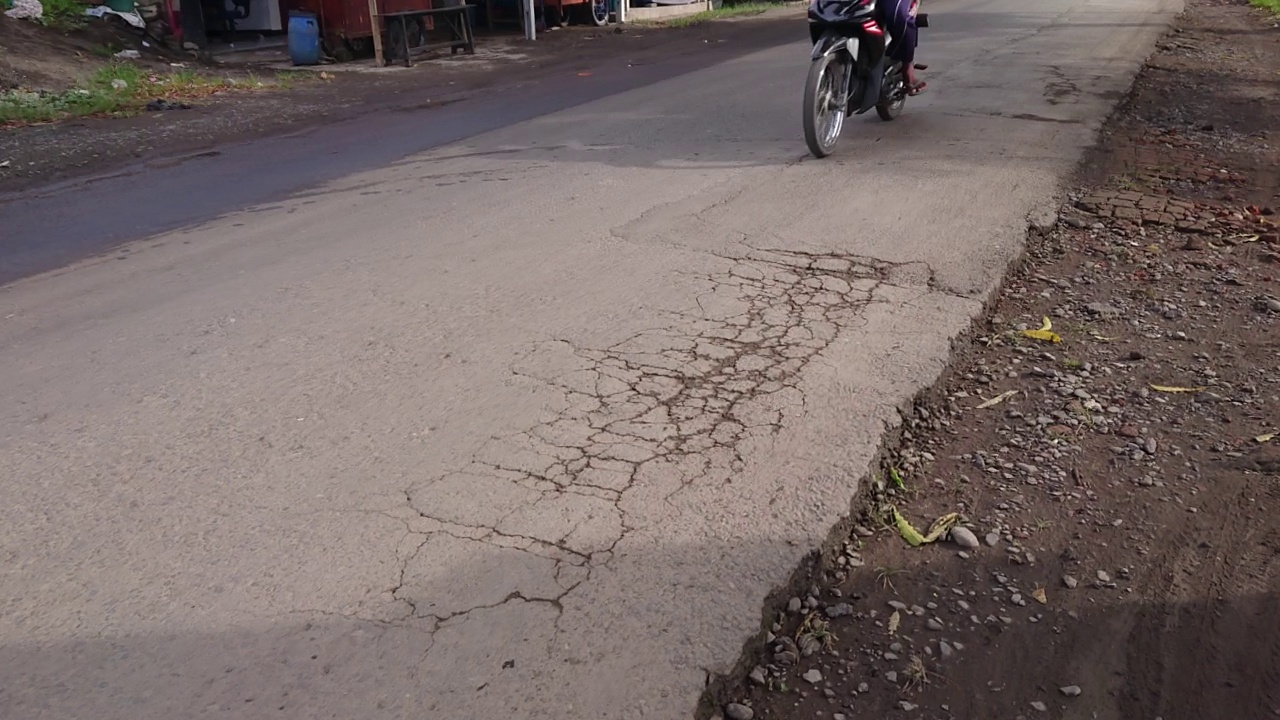Retak: (432, 249, 869, 637), (1041, 62, 1088, 125)
